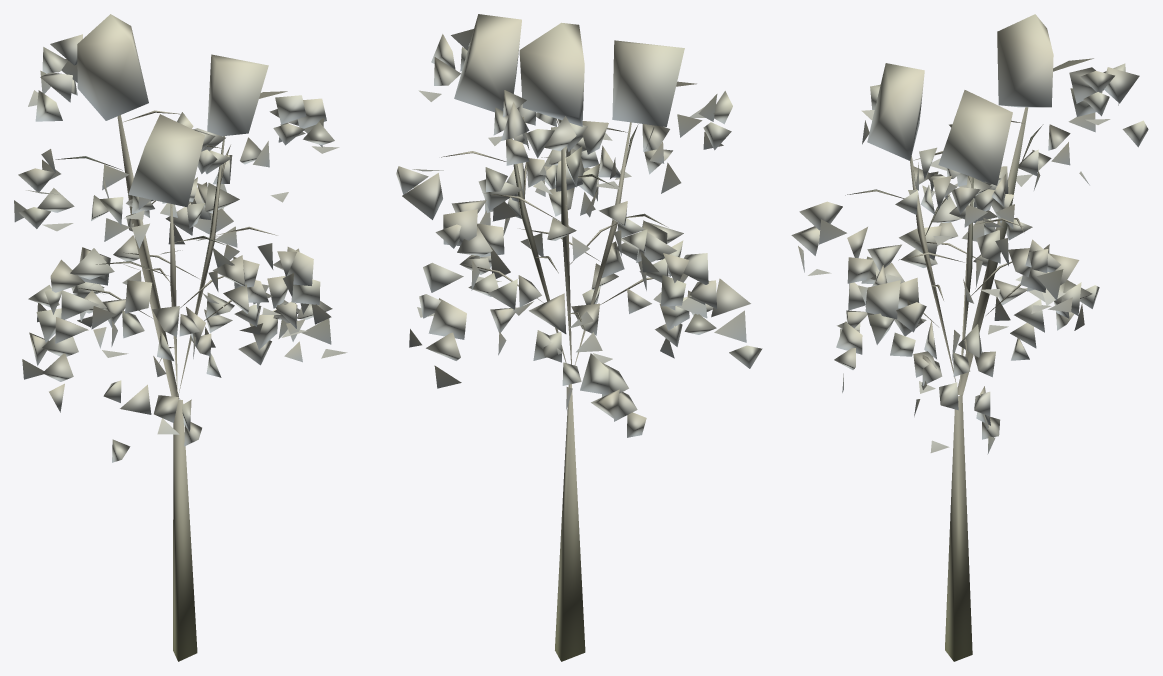
3 views of the same model, side by side, from view 1: azimuth 30°, elevation 25°; view 2: azimuth 150°, elevation 25°; view 3: azimuth 270°, elevation 25° (orthographic). The views are drawn at different scales.
Visible parts, largest first — view 1: crown, trunk; view 2: crown, trunk; view 3: crown, trunk.
Boxes of the visible parts, left/top/right/bottom form: crown: left=14, top=14, right=347, bottom=462; trunk: left=55, top=91, right=287, bottom=661; crown: left=396, top=14, right=762, bottom=437; trunk: left=441, top=81, right=696, bottom=661; crown: left=791, top=14, right=1148, bottom=454; trunk: left=845, top=58, right=1093, bottom=661.
Size of the model in its own units: 7.41 by 15.13 by 7.83.
